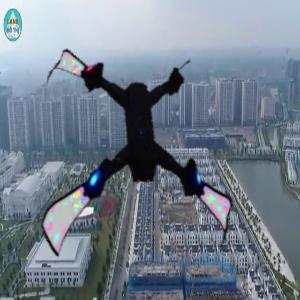drone: (36, 52, 251, 267)
